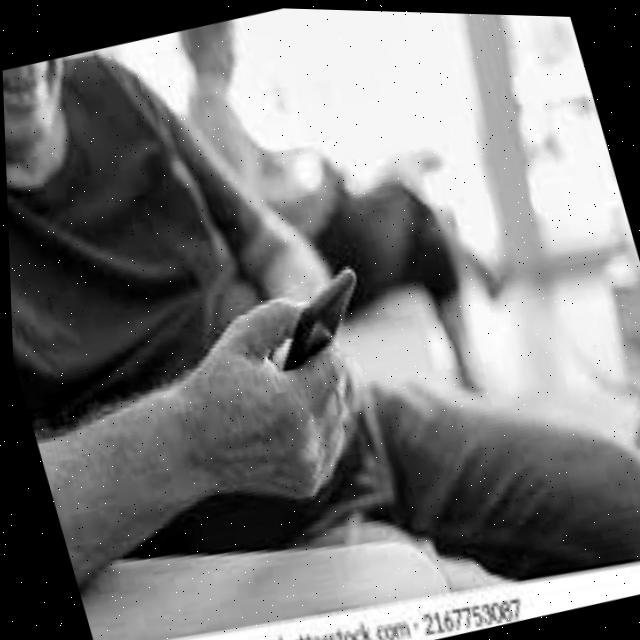phone: (251, 252, 377, 377)
